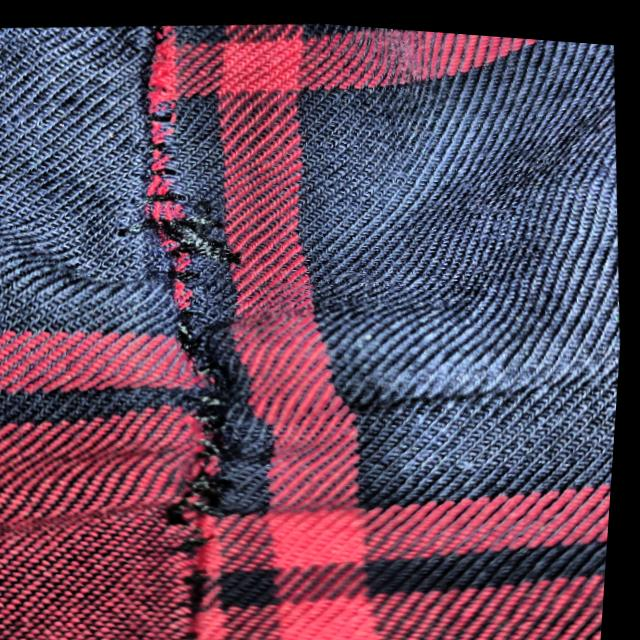Stitch: (97, 173, 285, 536)
